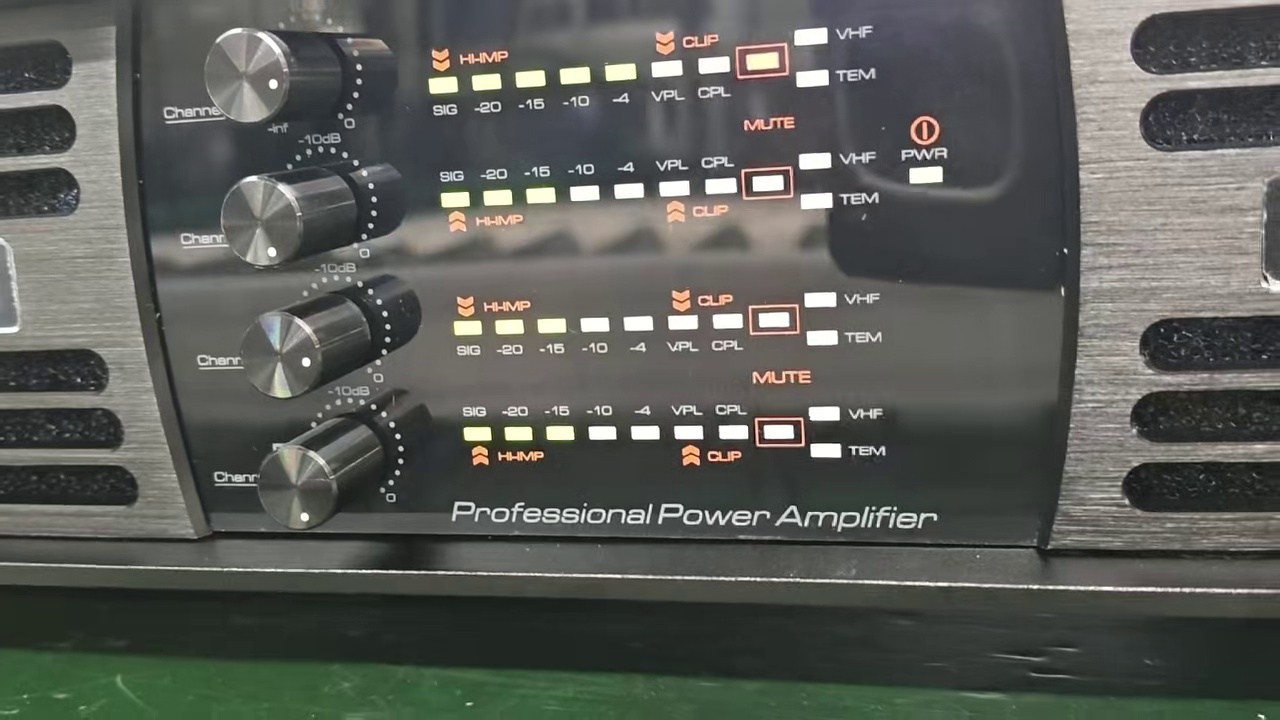FP_CPL: (698, 152, 740, 203), (693, 53, 734, 105), (709, 309, 750, 355), (711, 401, 750, 444)
FP_PWR: (895, 145, 954, 191)
FP_PWR_area: (890, 110, 955, 198)
FP_SIG_area: (426, 9, 876, 115), (433, 142, 882, 236), (458, 390, 895, 477), (446, 284, 891, 356)
FP_VPL: (647, 56, 689, 110), (652, 151, 695, 202), (662, 310, 705, 356), (667, 399, 707, 443)
